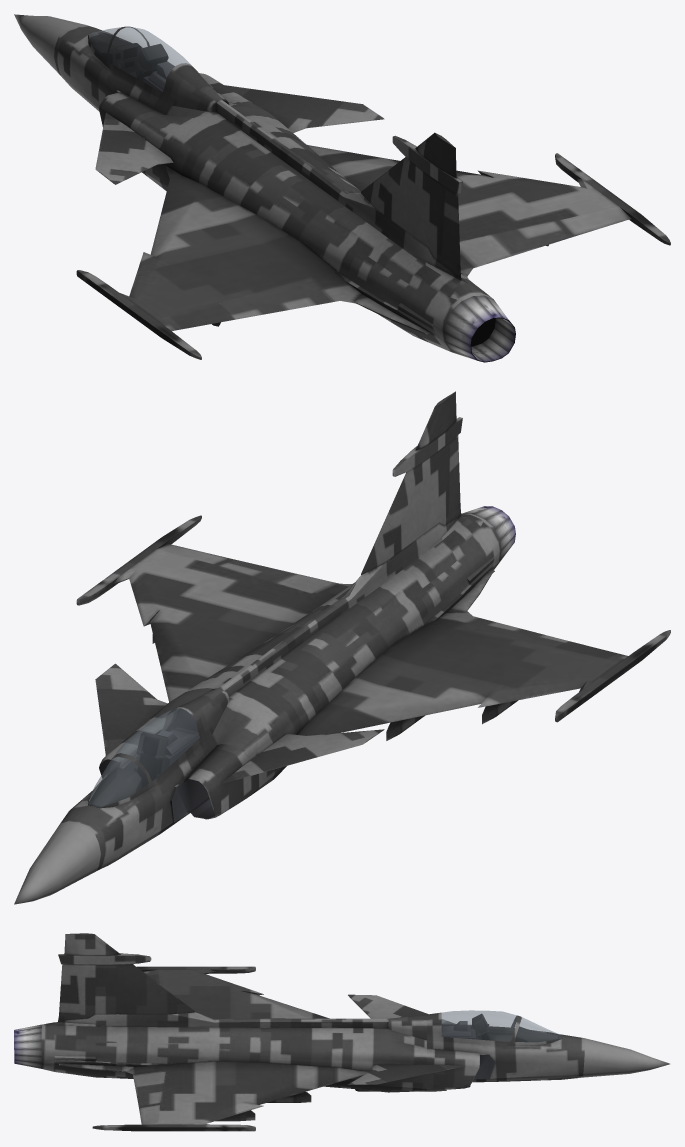
Rendered from e_gripen.glb.
The picture shows the model from 3 angles, top to bottom: view 1: azimuth 30°, elevation 25°; view 2: azimuth 150°, elevation 25°; view 3: azimuth 270°, elevation 25°; orthographic projection. The views are drawn at different scales.
Visible parts, largest first — view 1: body|Camo, body|glass, body|material, body|White, body|Jet_m; view 2: body|Camo, body|glass, body|White, body|Grey_d, body|material, body|Jet_m; view 3: body|Camo, body|glass, body|White, body|material, body|Grey_d.
Boxes of the visible parts, x1,y1,x2,y2 form: body|Camo: (54, 25, 670, 359); body|glass: (88, 27, 190, 92); body|material: (444, 295, 515, 361); body|White: (14, 14, 392, 142); body|Jet_m: (115, 47, 515, 362); body|Camo: (59, 391, 670, 870); body|glass: (88, 708, 199, 807); body|White: (14, 469, 395, 904); body|Grey_d: (99, 708, 257, 822); body|material: (462, 506, 515, 567); body|Jet_m: (137, 736, 162, 787); body|Camo: (41, 933, 584, 1131); body|glass: (441, 1010, 561, 1041); body|White: (150, 956, 669, 1077); body|material: (14, 1024, 41, 1068); body|Grey_d: (441, 1021, 495, 1086).
Size of the model in its own units: 8.78 by 3.68 by 14.72.
Materials: 7 (6 with a texture image).
